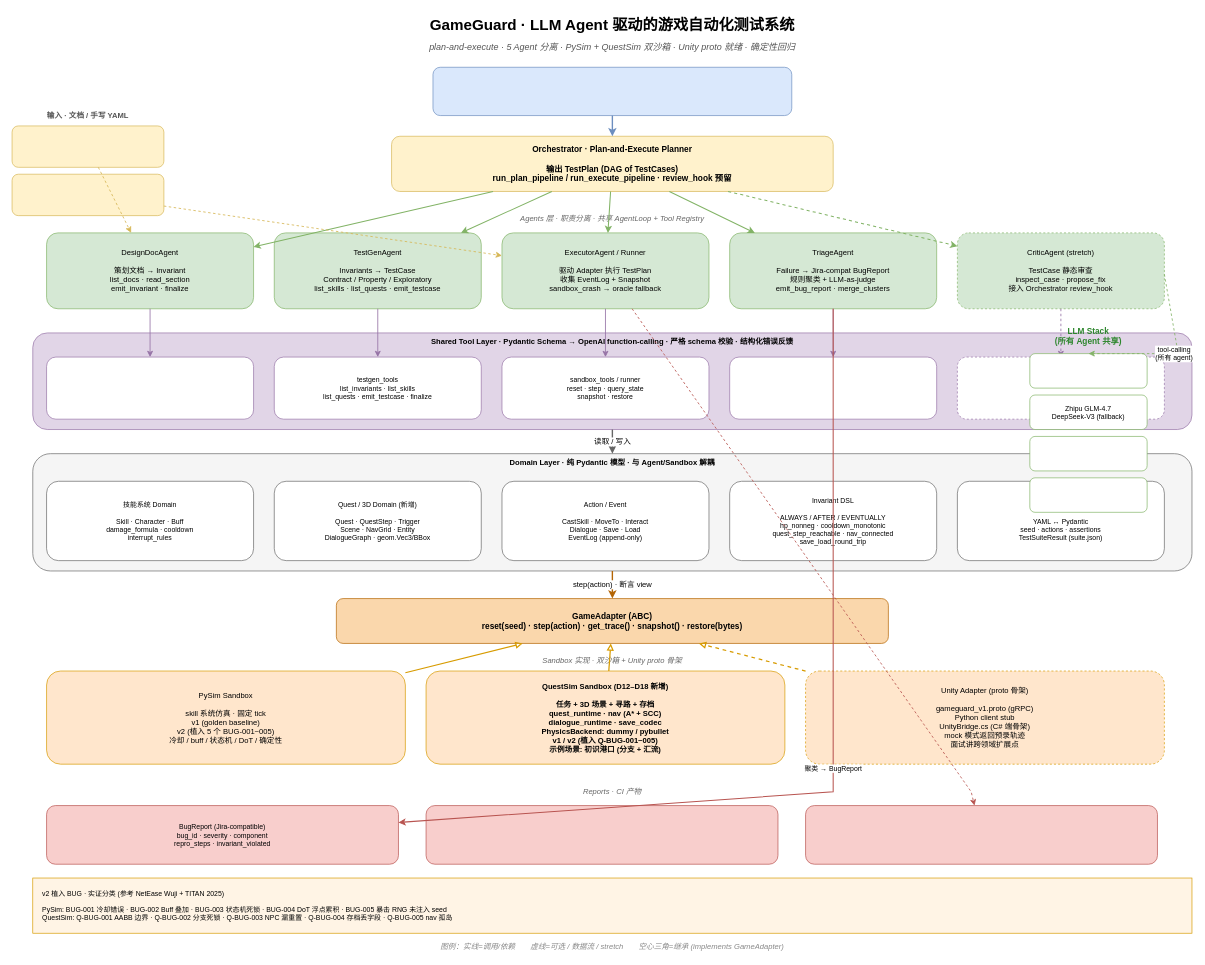
This 1205x965 diagram has some shape labels left out. Each missing label, with the box of its shape:
Cache (content-addr) deterministic mode: (1029, 436, 1147, 471)
critic_tools inspect_case · propose_fix drop_case · accept_all: (957, 356, 1164, 419)
doc_tools list_docs · list_sections read_section · read_full: (46, 356, 254, 419)
docs/example_skill_v1.md docs/example_quest_harbor.md (策划文档): (11, 125, 164, 167)
gameguard CLI (typer) run · generate · regress · triage · info: (432, 67, 792, 116)
HTML 报告 (Jinja2) regress 差分: NEW / FIXED / FLAKY trace + snapshot 链接: (805, 805, 1157, 864)
JSONL Trace token + $ 统计: (1029, 477, 1147, 512)
LiteLLM Client provider-agnostic: (1029, 353, 1147, 388)
Markdown 报告 suite.md · bugs.md dev-log 友好格式: (425, 805, 778, 864)
testcases/*.yaml 手写 / Agent 生成 TestPlan (进 git · 可 review): (11, 174, 164, 216)
triage_tools list_failures · emit_bug_report merge_clusters · finalize: (729, 356, 937, 419)
